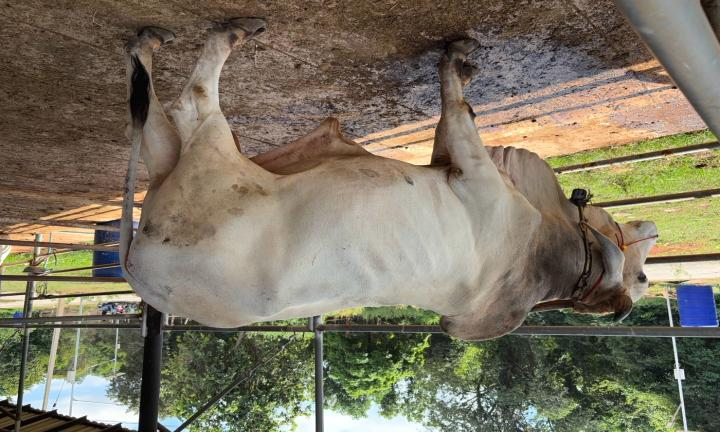Brahman: (119, 19, 657, 341)
